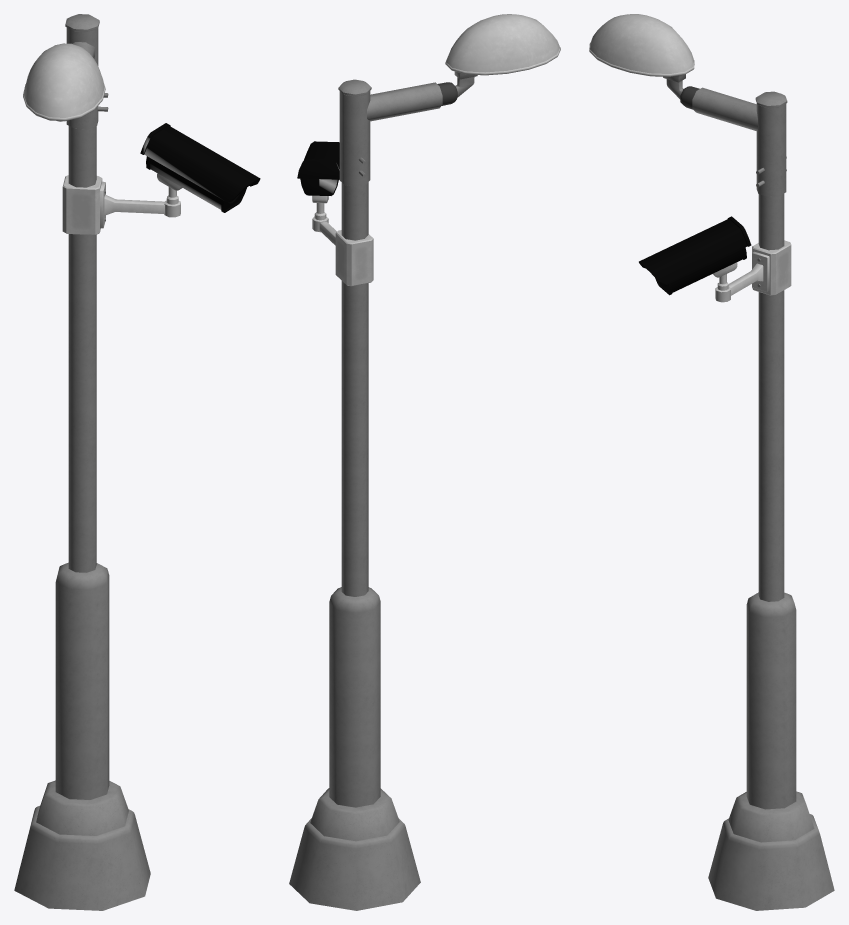
Rendered from streetlamp.glb.
3 views of the same model, side by side, from view 1: azimuth 30°, elevation 25°; view 2: azimuth 150°, elevation 25°; view 3: azimuth 270°, elevation 25° (orthographic). The views are drawn at different scales.
Parts seen in each view (by area): view 1: streetlamp_a_01, cctv_b_01, cctv_a_01; view 2: streetlamp_a_01, cctv_a_01, cctv_b_01; view 3: streetlamp_a_01, cctv_b_01, cctv_a_01.
Boxes of the visible parts, x1=… form: streetlamp_a_01: x1=14, y1=14, x2=150, y2=910; cctv_b_01: x1=140, y1=123, x2=260, y2=212; cctv_a_01: x1=62, y1=175, x2=180, y2=234; streetlamp_a_01: x1=289, y1=14, x2=560, y2=910; cctv_a_01: x1=312, y1=203, x2=373, y2=286; cctv_b_01: x1=297, y1=141, x2=339, y2=203; streetlamp_a_01: x1=589, y1=14, x2=834, y2=910; cctv_b_01: x1=639, y1=216, x2=751, y2=295; cctv_a_01: x1=715, y1=240, x2=791, y2=302.
Bounding box in the file's own units: 1.4 × 4.89 × 1.32.
1 material, 1 textured.
